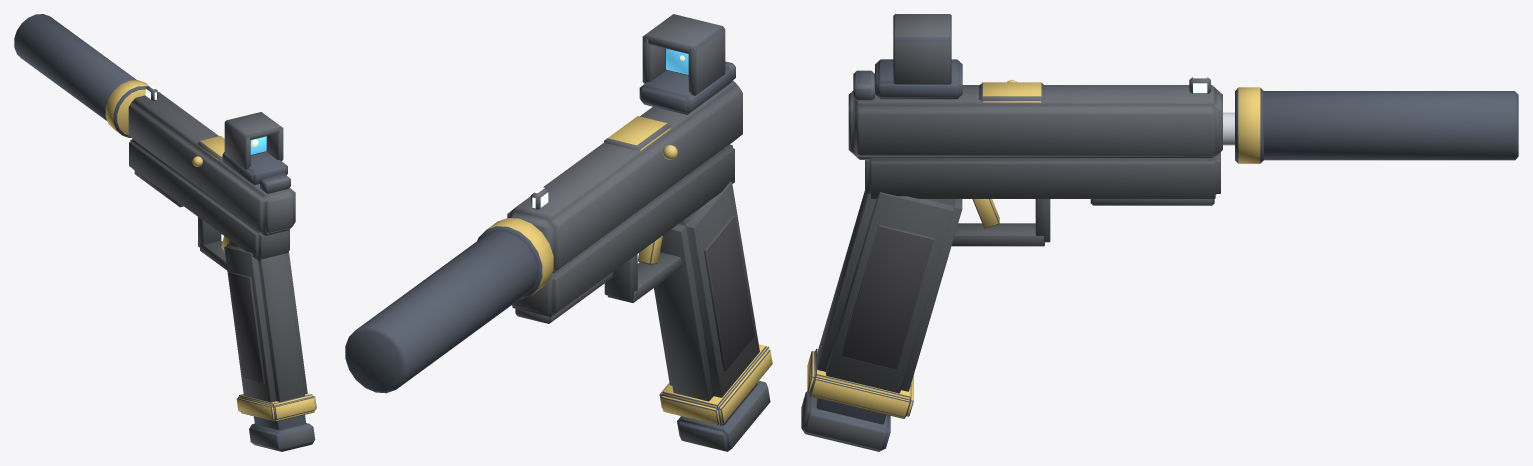
The model's file is OW_Weapon_Pistol.fbx.
3 renders of one model, left to right at view 1: azimuth 30°, elevation 25°; view 2: azimuth 150°, elevation 25°; view 3: azimuth 270°, elevation 25°, orthographic. The views are drawn at different scales.
Parts seen in each view (by area): view 1: Pistol_Frame, Part_Slide, Part_Suppressor, Part_Optic_RedDot, Part_Mag; view 2: Pistol_Frame, Part_Slide, Part_Suppressor, Part_Optic_RedDot, Part_Mag; view 3: Pistol_Frame, Part_Slide, Part_Suppressor, Part_Optic_RedDot, Part_Mag.
Boxes of the visible parts, box(x1,y1,x2,y2) form: Pistol_Frame: box(129, 139, 316, 421); Part_Slide: box(128, 85, 295, 236); Part_Suppressor: box(14, 14, 148, 137); Part_Optic_RedDot: box(222, 112, 287, 185); Part_Mag: box(249, 415, 315, 451); Pistol_Frame: box(512, 144, 772, 425); Part_Slide: box(507, 61, 742, 273); Part_Suppressor: box(345, 218, 553, 393); Part_Optic_RedDot: box(639, 14, 731, 114); Part_Mag: box(677, 380, 770, 451); Pistol_Frame: box(807, 112, 1234, 418); Part_Slide: box(848, 70, 1222, 159); Part_Suppressor: box(1235, 87, 1518, 163); Part_Optic_RedDot: box(875, 14, 962, 99); Part_Mag: box(801, 391, 890, 451).
Size of the model in its own units: 4.47 by 25.16 by 39.3.
